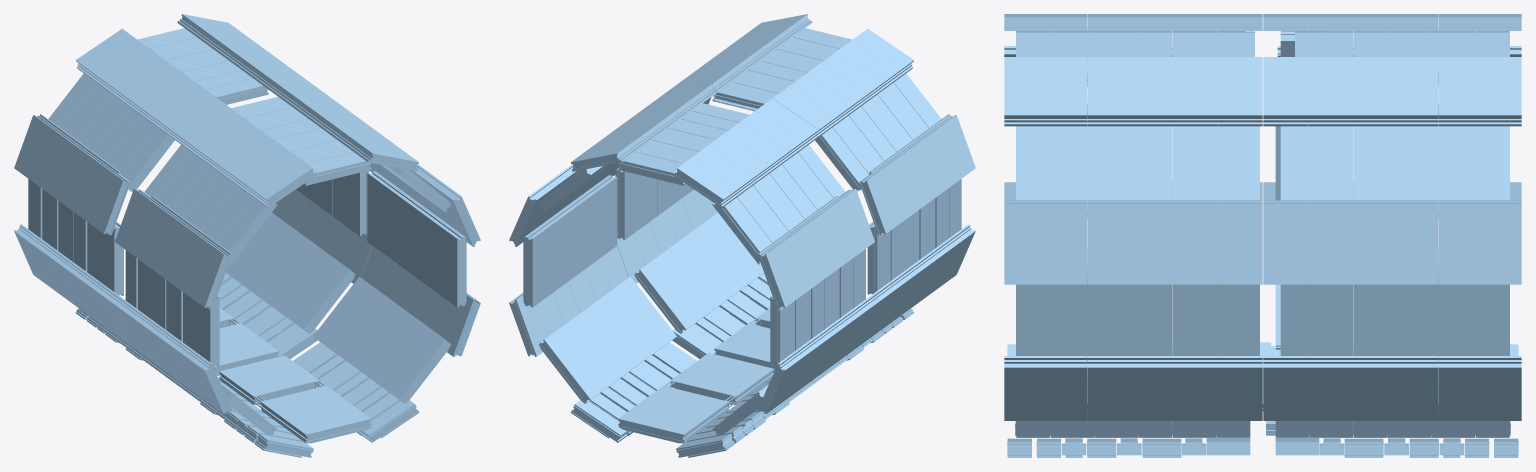
File: Muon-Barrel-Outer.gltf
The picture shows the model from 3 angles, left to right: view 1: azimuth 30°, elevation 25°; view 2: azimuth 150°, elevation 25°; view 3: azimuth 270°, elevation 25°; orthographic projection. The views are drawn at different scales.
Visible parts, largest first — view 1: _067190E8; view 2: _067190E8; view 3: _067190E8.
Part boxes in pixels (bbox=[...]): _067190E8: bbox=[14, 14, 480, 457]; _067190E8: bbox=[509, 14, 975, 457]; _067190E8: bbox=[1004, 14, 1521, 457].
Bounding box in the file's own units: 21.5 × 21.72 × 25.69.
